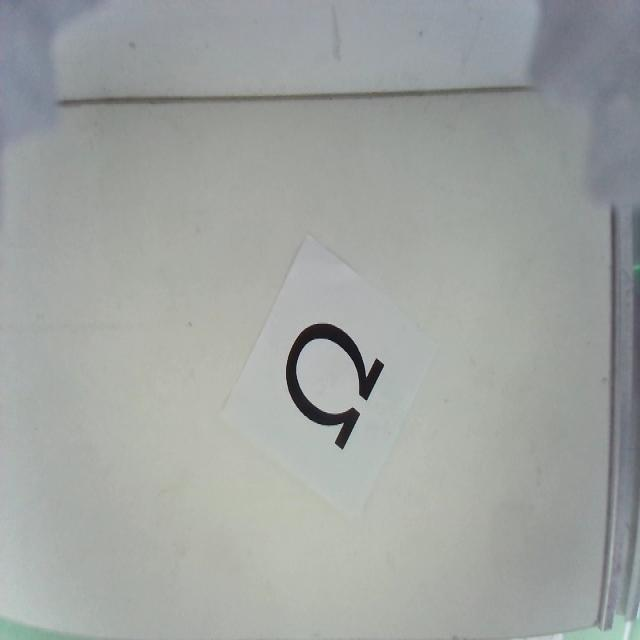OM: (284, 320, 382, 446)
